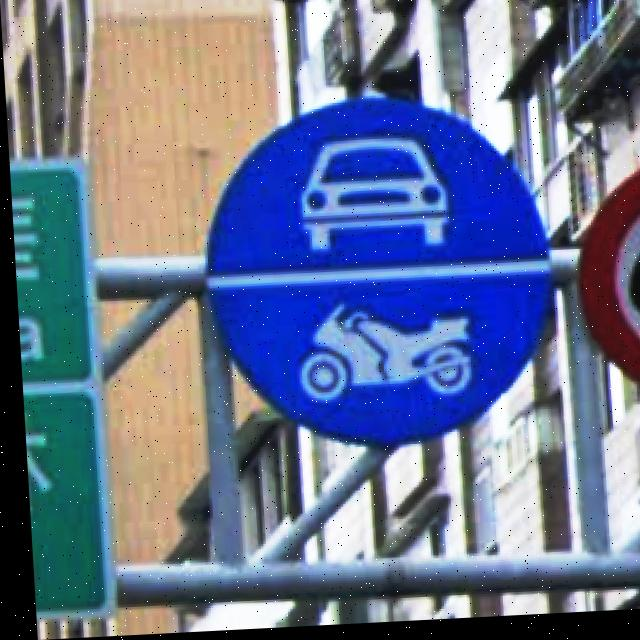carmotorcycle: (203, 103, 548, 451)
